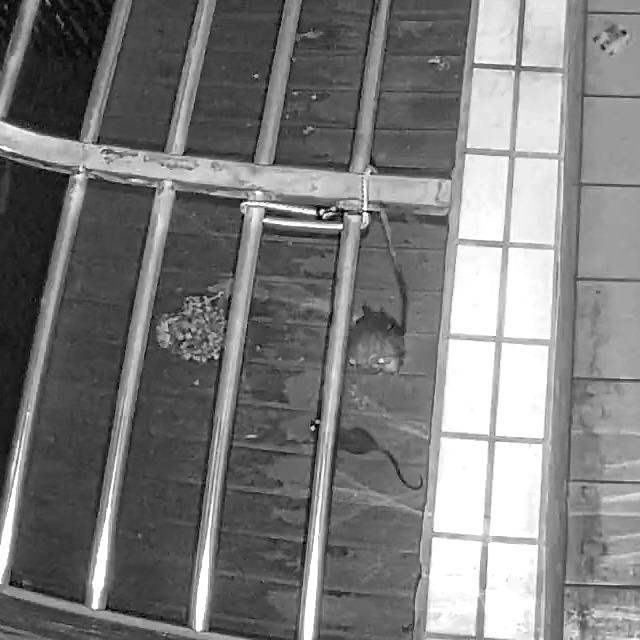rat: (308, 416, 424, 492)
